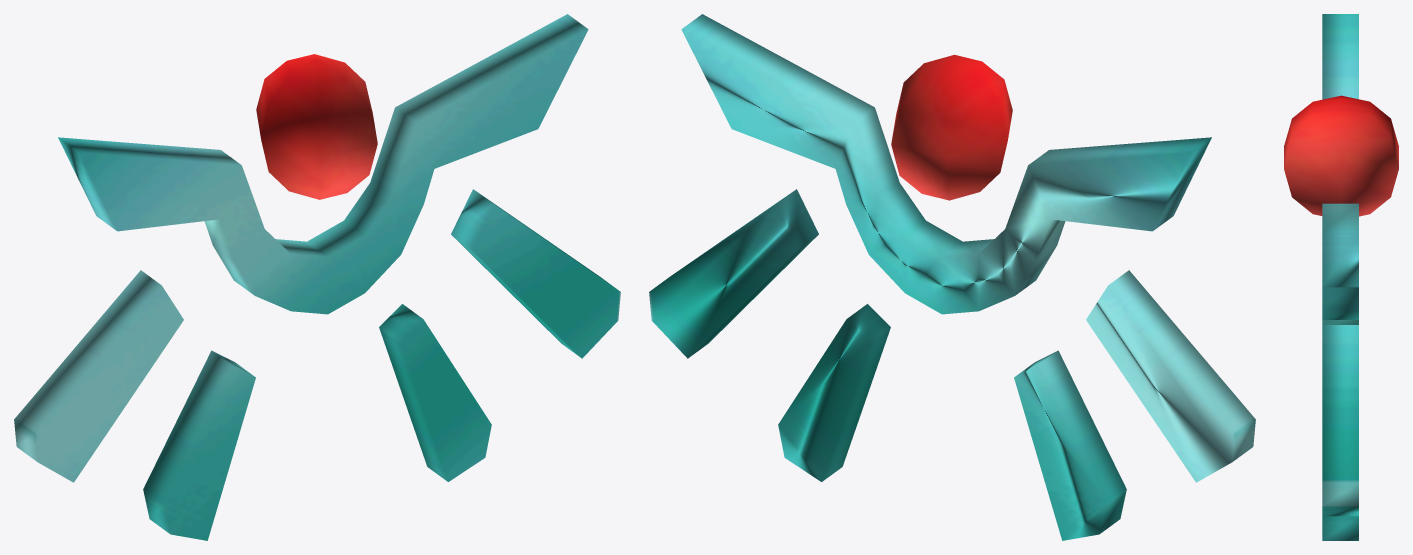
Rendered from goemon.ico.obj.
3 renders of one model, left to right at view 1: azimuth 30°, elevation 25°; view 2: azimuth 150°, elevation 25°; view 3: azimuth 270°, elevation 25°, orthographic. The views are drawn at different scales.
Bounding box in the file's own units: 4.54 × 3.28 × 0.8799.
Materials: 1 (1 with a texture image).
